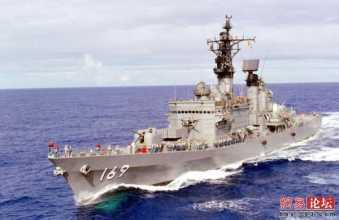warship: (40, 9, 325, 194)
